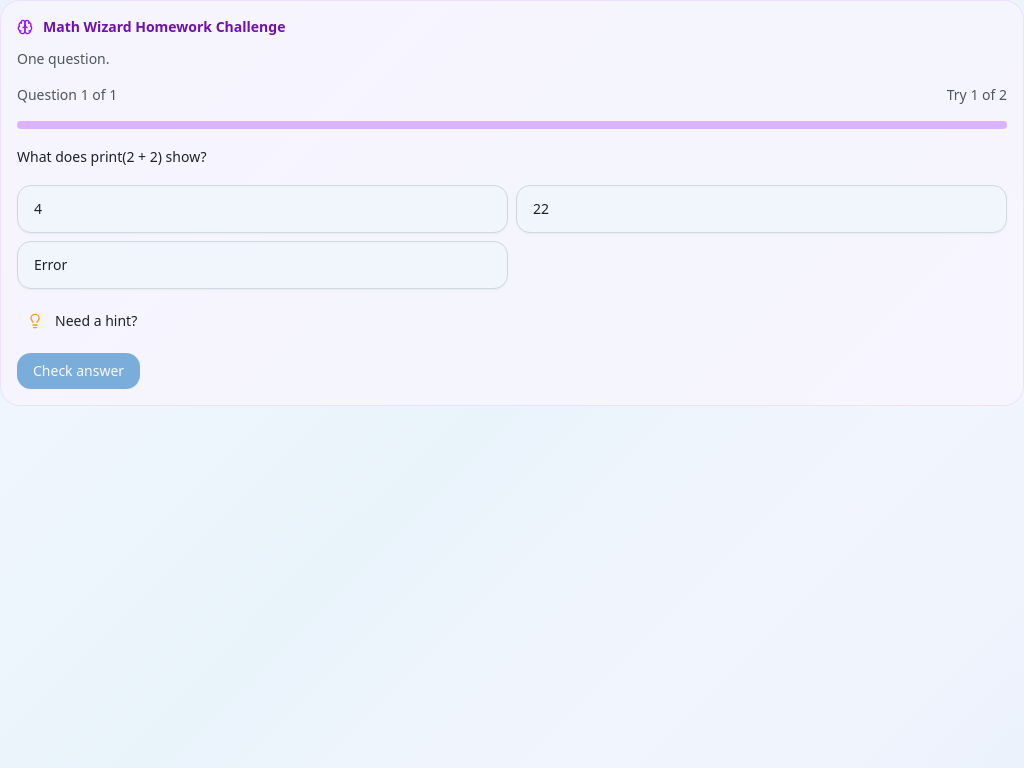
Test case: QuickCheck › plays a question through check, hint, and result
Expected: the heading "Math Wizard Homework Challenge" is shown, [43,17,285,37]
Click the button "Need a hint?".
click(82, 321)  # box [17,305,147,337]
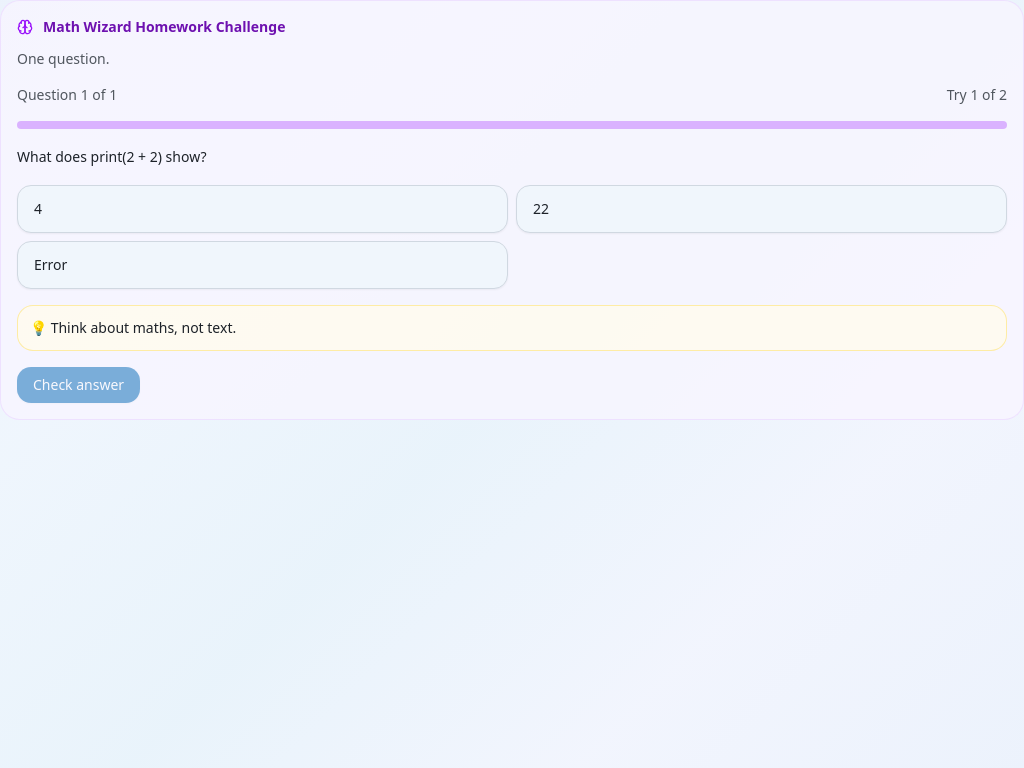
Now the text "💡 Think about maths, not text." is shown, box [17,305,1007,351]
Click the radio button labelled "4".
click(38, 208)  # box [17,185,508,233]
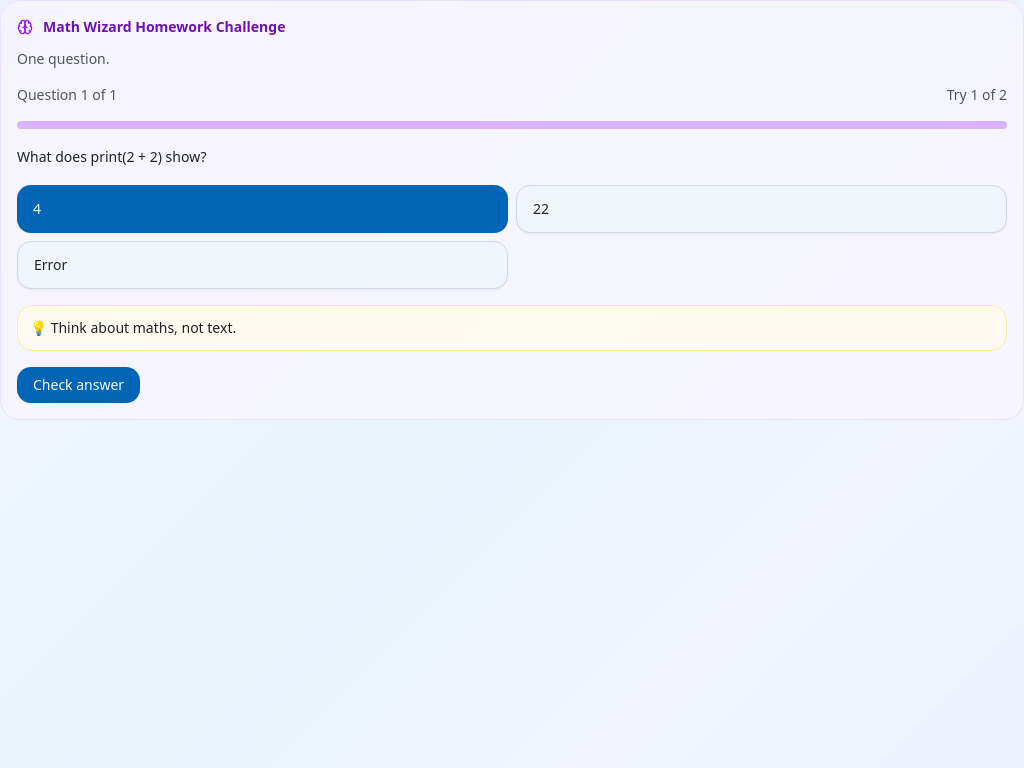
Click the button "Check answer".
click(79, 385)  # box [17,367,140,403]
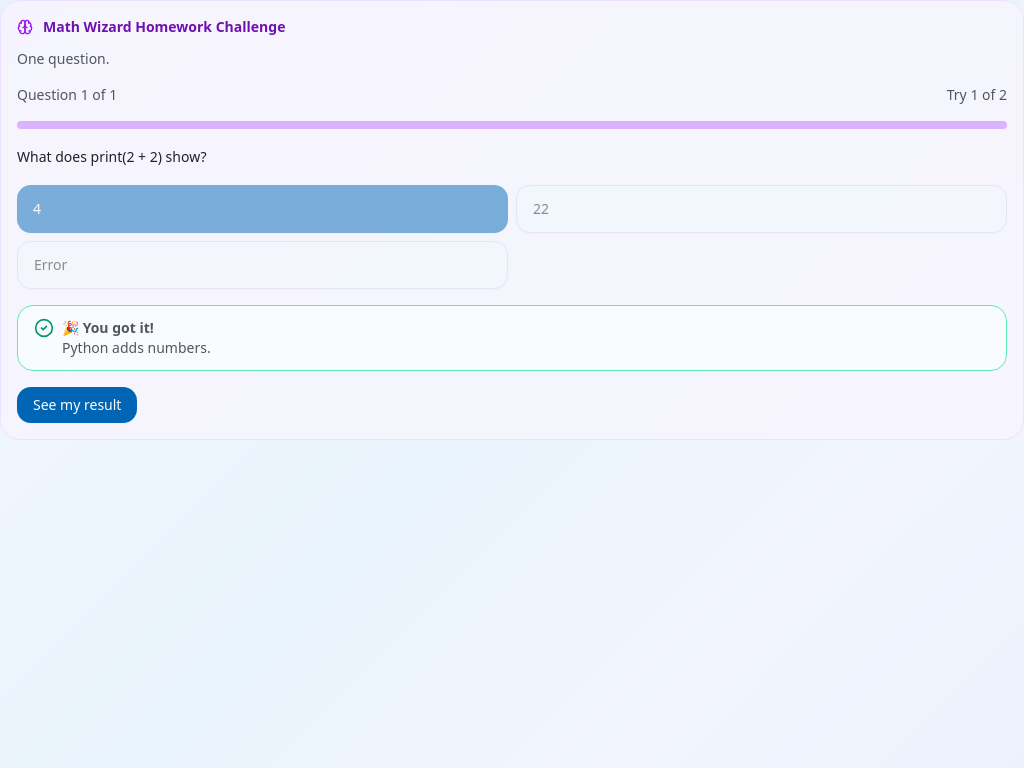
Now the text "🎉 You got it!" is shown, box [62,318,154,337]
Click the button "See my result".
click(77, 405)  # box [17,387,137,423]
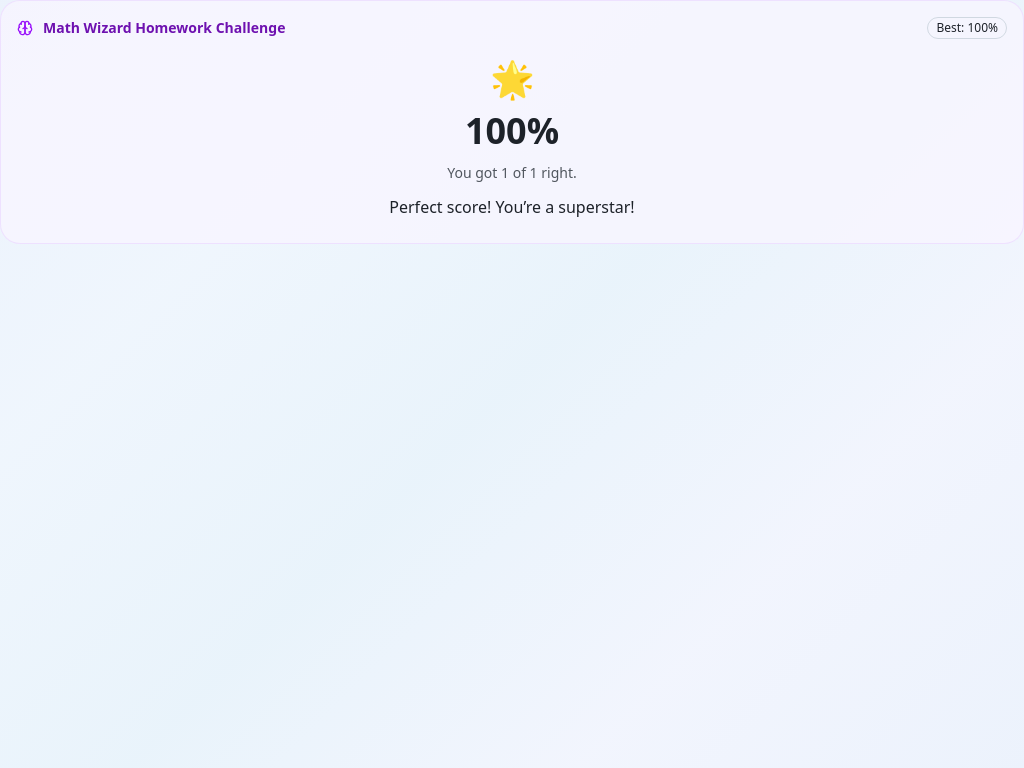
Now the text "100%" is shown, box [465,106,559,155]
Now the text "You got 1 of 1 right." is shown, box [447,163,577,182]
Now the text "Perfect score! You’re a superstar!" is shown, box [389,196,635,218]
